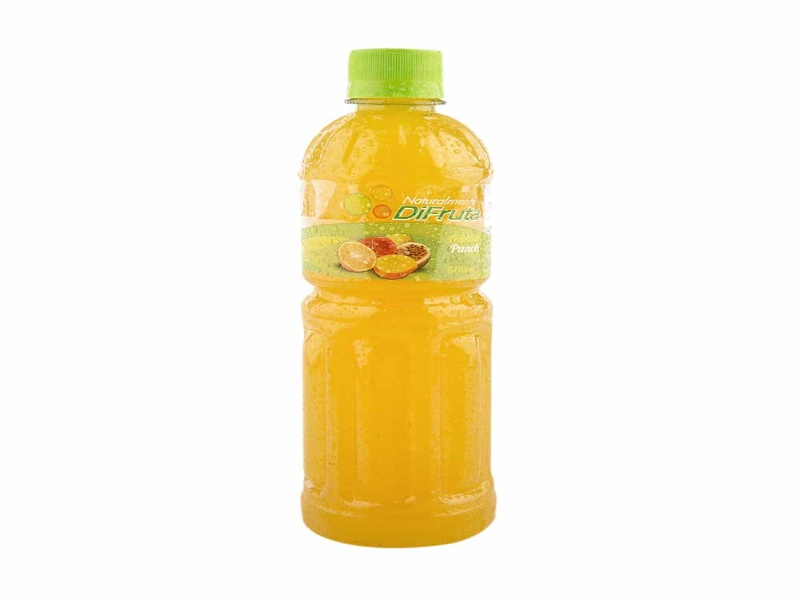Jugo de naranja: (299, 49, 498, 548)
